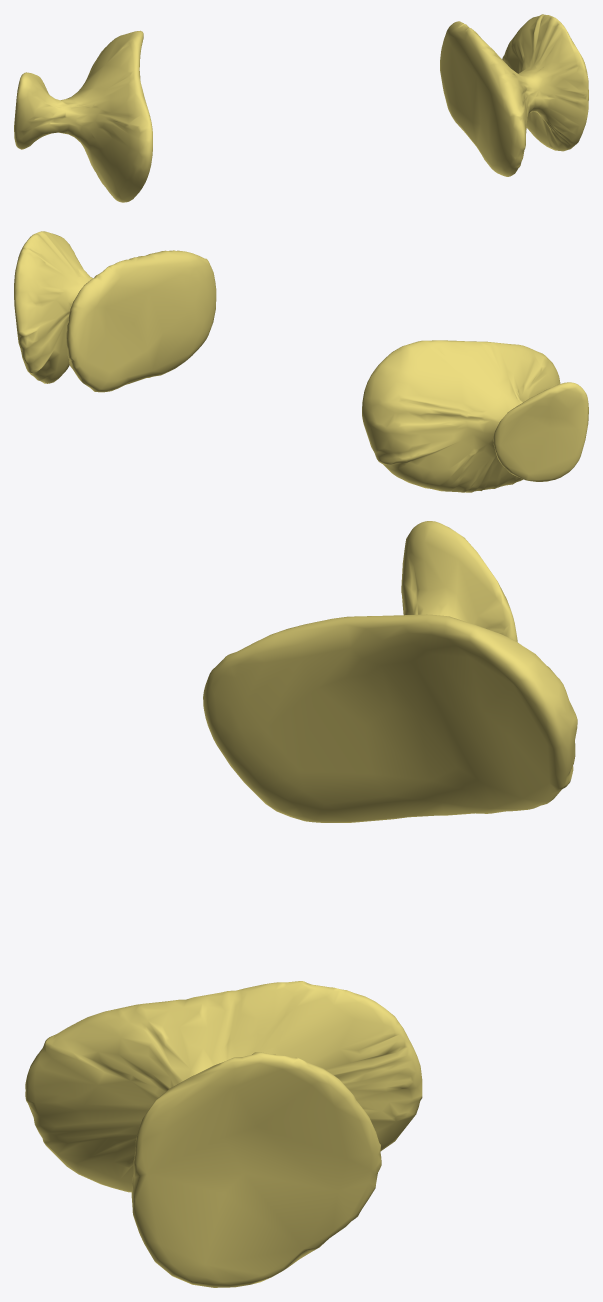
The model's file is suspensory-ligament-of-eyeball-r.glb.
3 renders of one model, top to bottom at view 1: azimuth 30°, elevation 25°; view 2: azimuth 150°, elevation 25°; view 3: azimuth 270°, elevation 25°, orthographic. The views are drawn at different scales.
Visible parts, largest first — view 1: Suspensory ligament of eyeball.r; view 2: Suspensory ligament of eyeball.r; view 3: Suspensory ligament of eyeball.r.
Part boxes in pixels (x1,y1,x2,y2): Suspensory ligament of eyeball.r: (14, 14, 588, 202); Suspensory ligament of eyeball.r: (14, 231, 588, 492); Suspensory ligament of eyeball.r: (25, 521, 577, 1287).
Size of the model in its own units: 0.0387 by 0.0116 by 0.0184.
